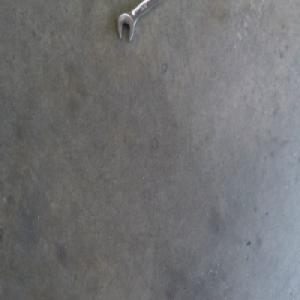Wrench: (116, 0, 158, 41)
